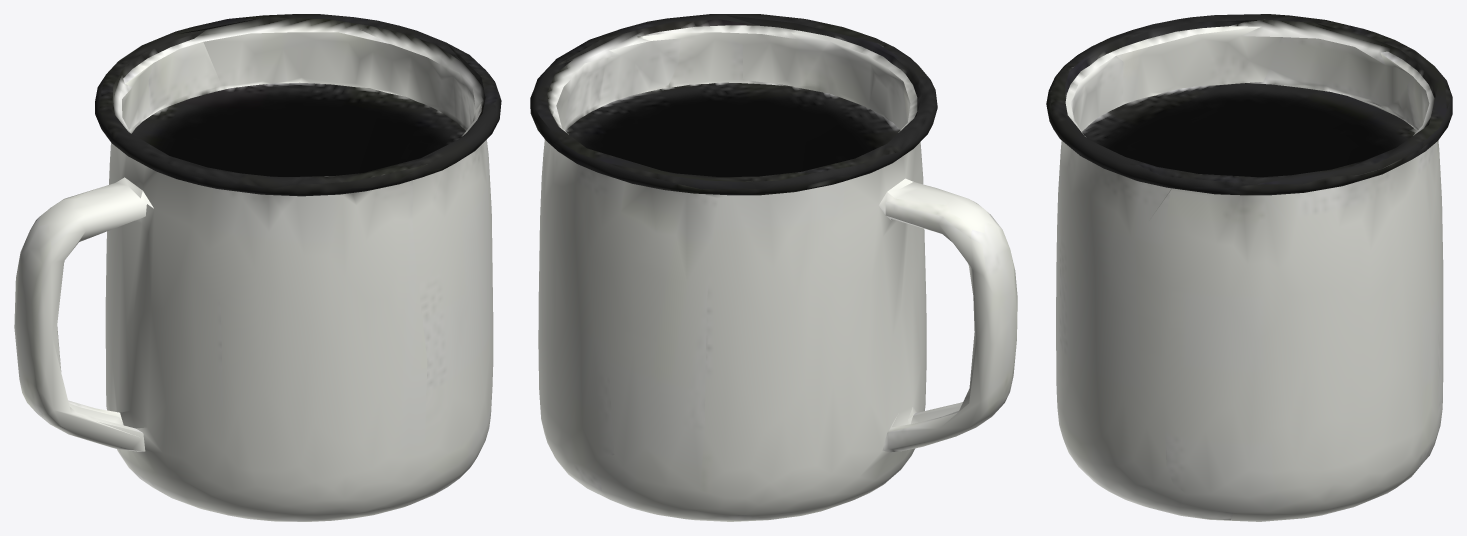
The model's file is mug.glb.
3 renders of one model, left to right at view 1: azimuth 30°, elevation 25°; view 2: azimuth 150°, elevation 25°; view 3: azimuth 270°, elevation 25°, orthographic.
Visible parts, largest first — view 1: mug; view 2: mug; view 3: mug.
Boxes of the visible parts, bbox=[...] form: mug: bbox=[14, 14, 501, 521]; mug: bbox=[530, 14, 1017, 521]; mug: bbox=[1046, 14, 1452, 521].
Bounding box in the file's own units: 0.1325 × 0.1 × 0.1036.
Materials: 1 (1 with a texture image).
